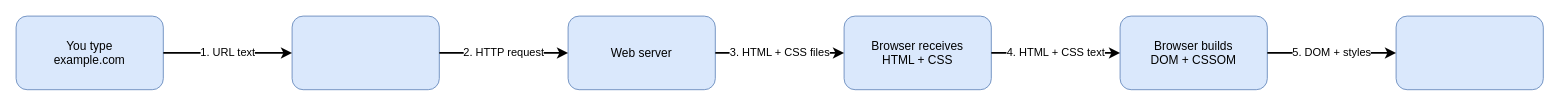
Some shapes in this 1559 by 106 pixel diagram are drawn without their labels. The box of each missing label's shape, as (x1, y1, x2, y2) in pixels:
Browser finds the server (DNS lookup): (291, 15, 439, 90)
Layout and paint: page on screen: (1395, 15, 1543, 90)
